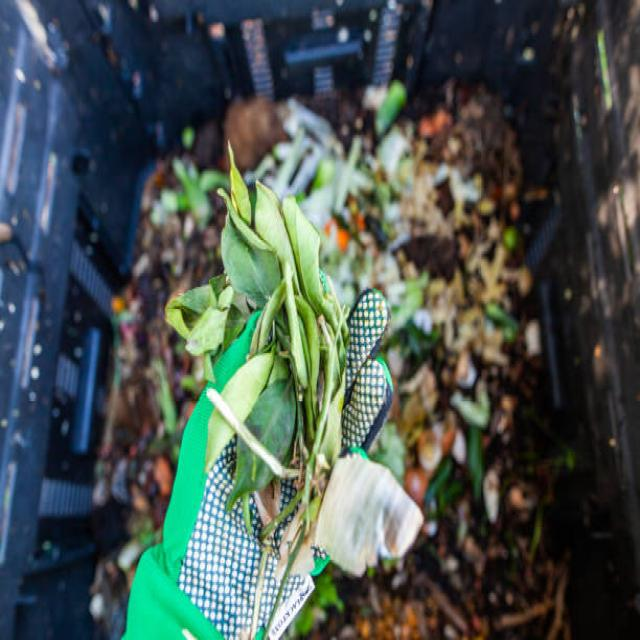trash: (141, 163, 587, 640), (340, 144, 587, 621)
